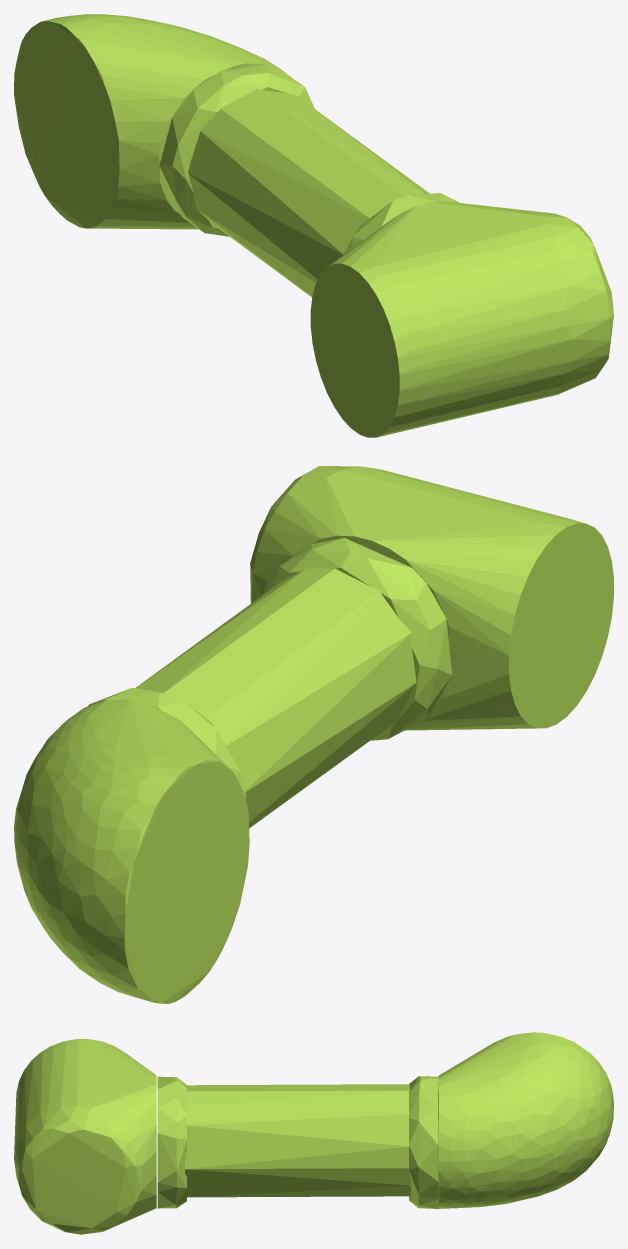
Rendered from ur3_robot_link__45__.dae.
The picture shows the model from 3 angles, top to bottom: view 1: azimuth 30°, elevation 25°; view 2: azimuth 150°, elevation 25°; view 3: azimuth 270°, elevation 25°; orthographic projection. The views are drawn at different scales.
Visible parts, largest first — view 1: Node_0000014D8EC099F0 (×5); view 2: Node_0000014D8EC099F0 (×5); view 3: Node_0000014D8EC099F0 (×5).
Part boxes in pixels (left/top/right/bottom): Node_0000014D8EC099F0 (×5): left=14, top=14, right=613, bottom=437; Node_0000014D8EC099F0 (×5): left=14, top=466, right=613, bottom=1003; Node_0000014D8EC099F0 (×5): left=14, top=1032, right=613, bottom=1234.
Size of the model in its own units: 0.0945 by 0.075 by 0.2833.
